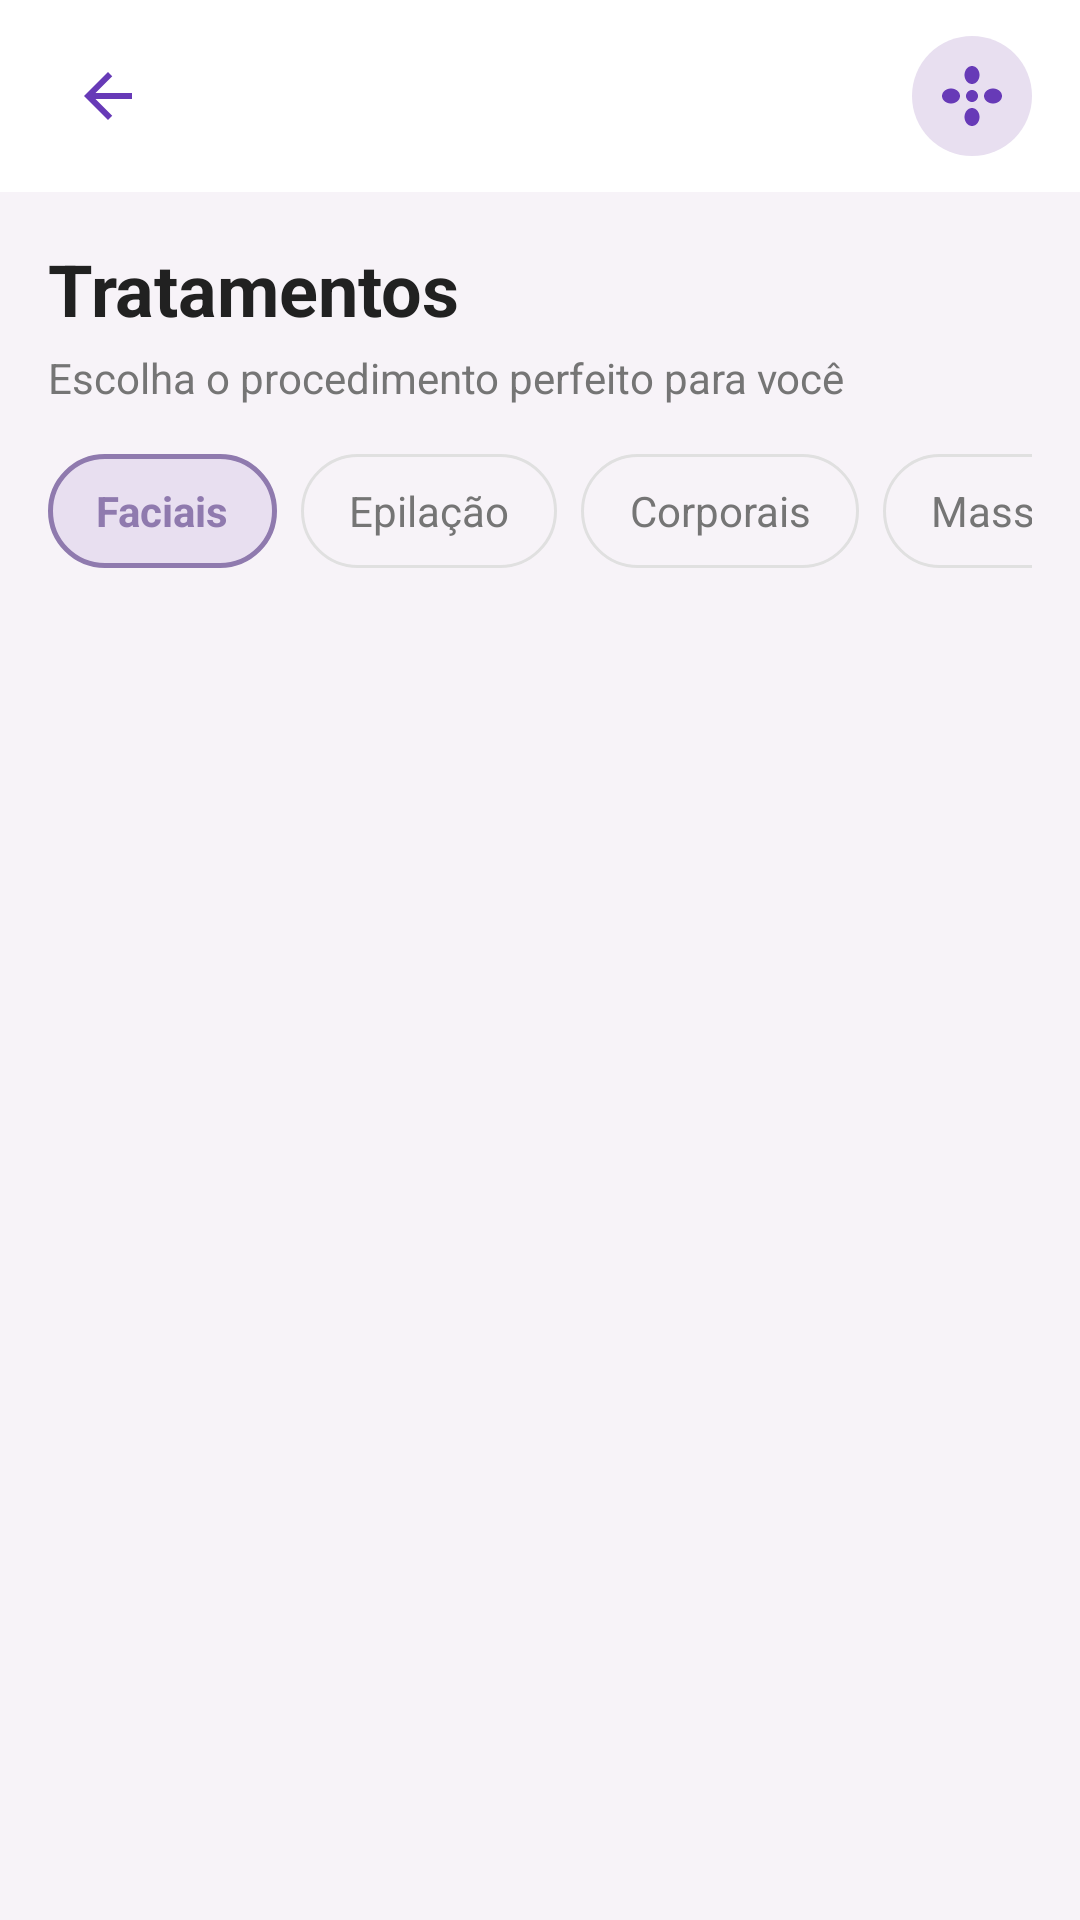

Icon click points for this 1080x1920 phone screenshot, format (x=x, y=y):
Voltar: (x=108, y=96)
